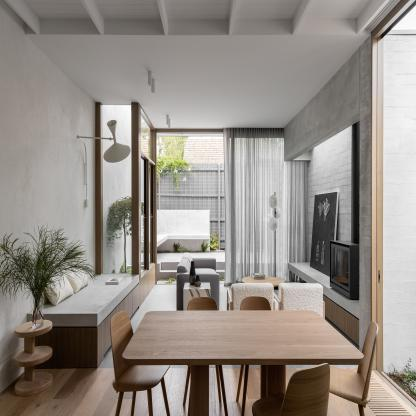TV: (328, 244, 359, 304)
chair: (104, 304, 171, 416), (339, 314, 389, 416), (187, 294, 227, 416), (249, 363, 336, 416), (238, 290, 271, 415), (279, 279, 329, 329), (232, 279, 278, 309)
light: (66, 113, 135, 213), (262, 192, 287, 274)
sofa: (32, 264, 139, 376), (178, 255, 221, 305)
table: (123, 309, 364, 416), (14, 314, 54, 394), (180, 280, 212, 306)
